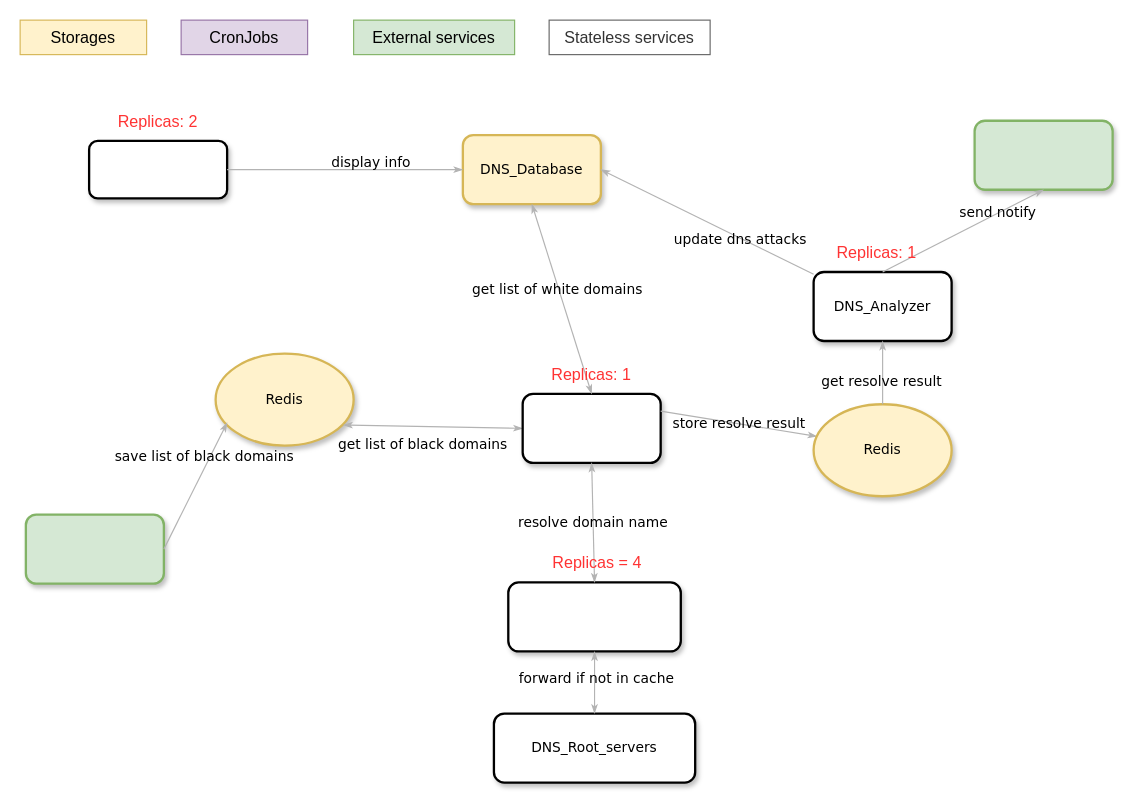
The diagram is 1141 pixels wide and 812 high, and some of its shapes have lost their labels. Each missing label, with the centre of its shape:
"DNS_Hyperlocal_Relay" goes at pixel 595 618.
"DNS_Resolver" goes at pixel 592 429.
"DNS_Site" goes at pixel 159 171.
"Notification" goes at pixel 1044 156.
"Vigruzki_cron" goes at pixel 95 550.
